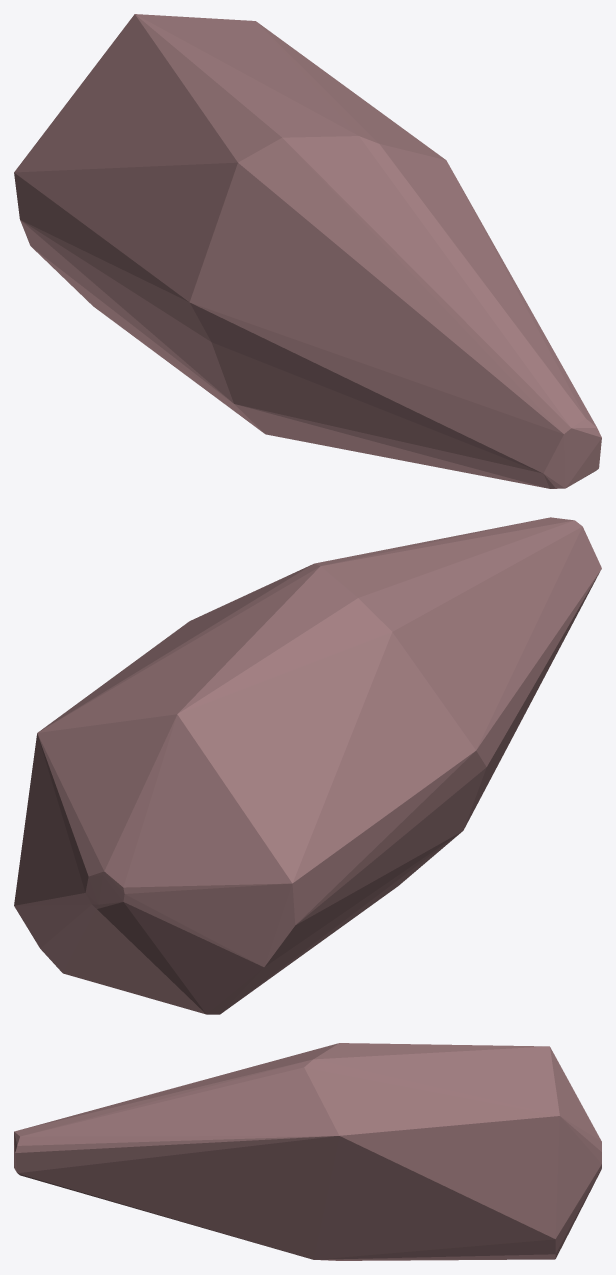
Rendered from food_beverage_ginBottle_c01.glb.
3 views of the same model, one above another, from view 1: azimuth 30°, elevation 25°; view 2: azimuth 150°, elevation 25°; view 3: azimuth 270°, elevation 25° (orthographic). The views are drawn at different scales.
Parts seen in each view (by area): view 1: geometry_0; view 2: geometry_0; view 3: geometry_0.
Boxes of the visible parts, <box> form: geometry_0: <box>14,14,601,488</box>; geometry_0: <box>14,517,601,1014</box>; geometry_0: <box>14,1043,601,1260</box>.
Size of the model in its own units: 0.1672 by 0.1739 by 0.48.
